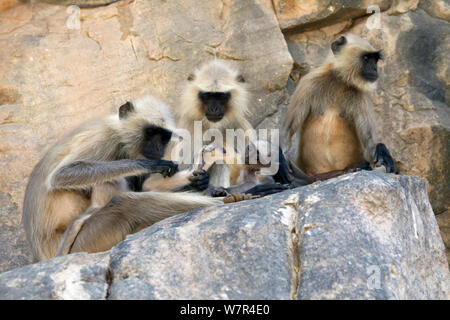monkey: (17, 95, 213, 257), (275, 33, 409, 179), (176, 59, 292, 200)
